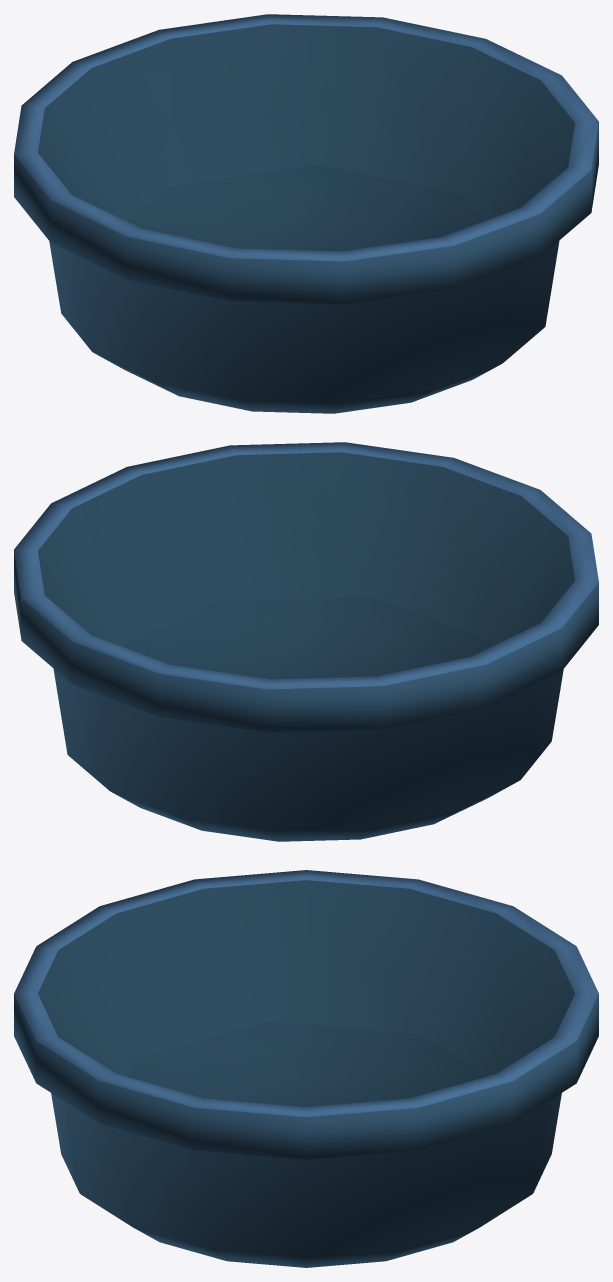
The model's file is SM_Bucket_04.fbx.
3 renders of one model, top to bottom at view 1: azimuth 30°, elevation 25°; view 2: azimuth 150°, elevation 25°; view 3: azimuth 270°, elevation 25°, orthographic.
Visible parts, largest first — view 1: SM_Bucket_04; view 2: SM_Bucket_04; view 3: SM_Bucket_04.
Part boxes in pixels (x1,y1,x2,y2): SM_Bucket_04: (14,14,598,413); SM_Bucket_04: (14,442,598,841); SM_Bucket_04: (14,870,598,1267).
Bounding box in the file's own units: 0.6729 × 0.2369 × 0.6729.
